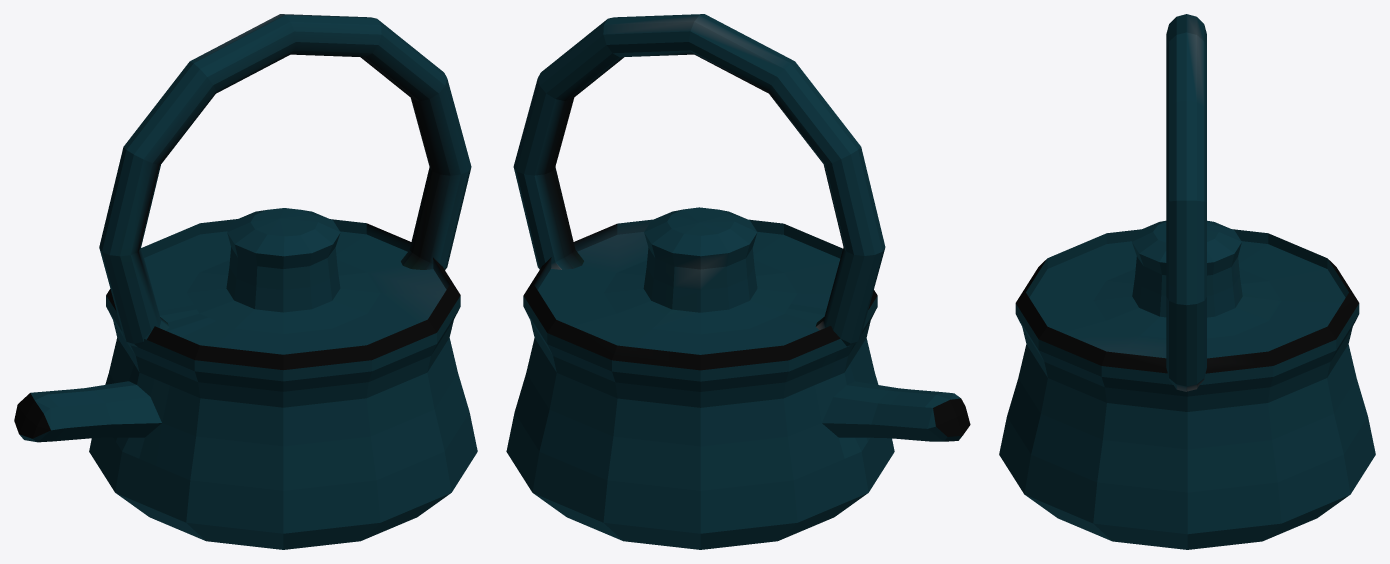
The model's file is Chaleira.fbx.
3 views of the same model, side by side, from view 1: azimuth 30°, elevation 25°; view 2: azimuth 150°, elevation 25°; view 3: azimuth 270°, elevation 25° (orthographic). The views are drawn at different scales.
Parts seen in each view (by area): view 1: Teapot; view 2: Teapot; view 3: Teapot.
Part boxes in pixels (<box>): Teapot: <box>14,14,477,549</box>; Teapot: <box>506,14,970,549</box>; Teapot: <box>999,14,1375,549</box>.
Bounding box in the file's own units: 29.69 × 30.08 × 22.3.
